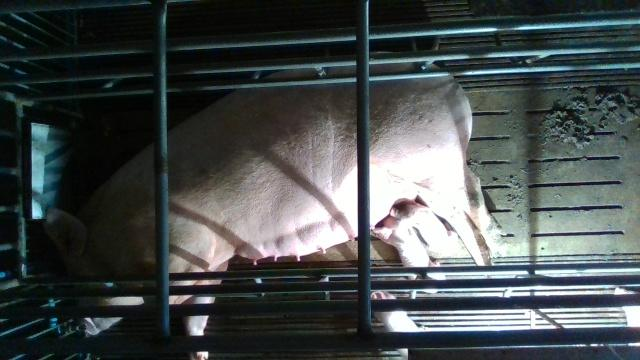piglet: (389, 199, 458, 259), (372, 217, 434, 267)
sow-sleep-lactate: (43, 51, 506, 360)
